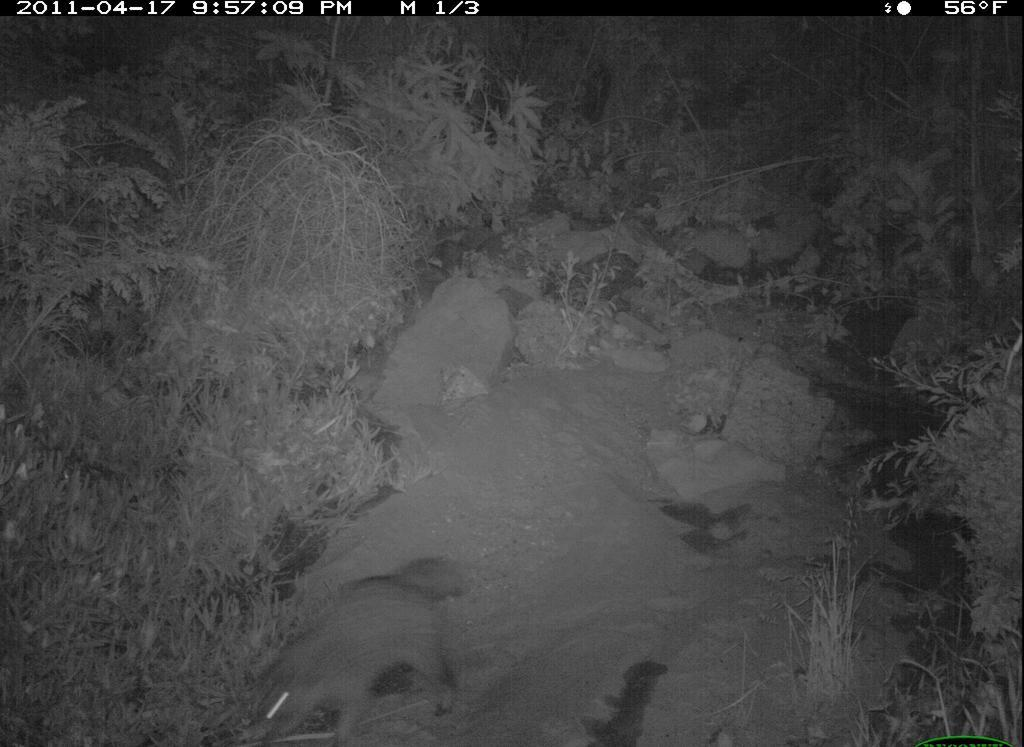raccoon: (217, 553, 488, 747)
